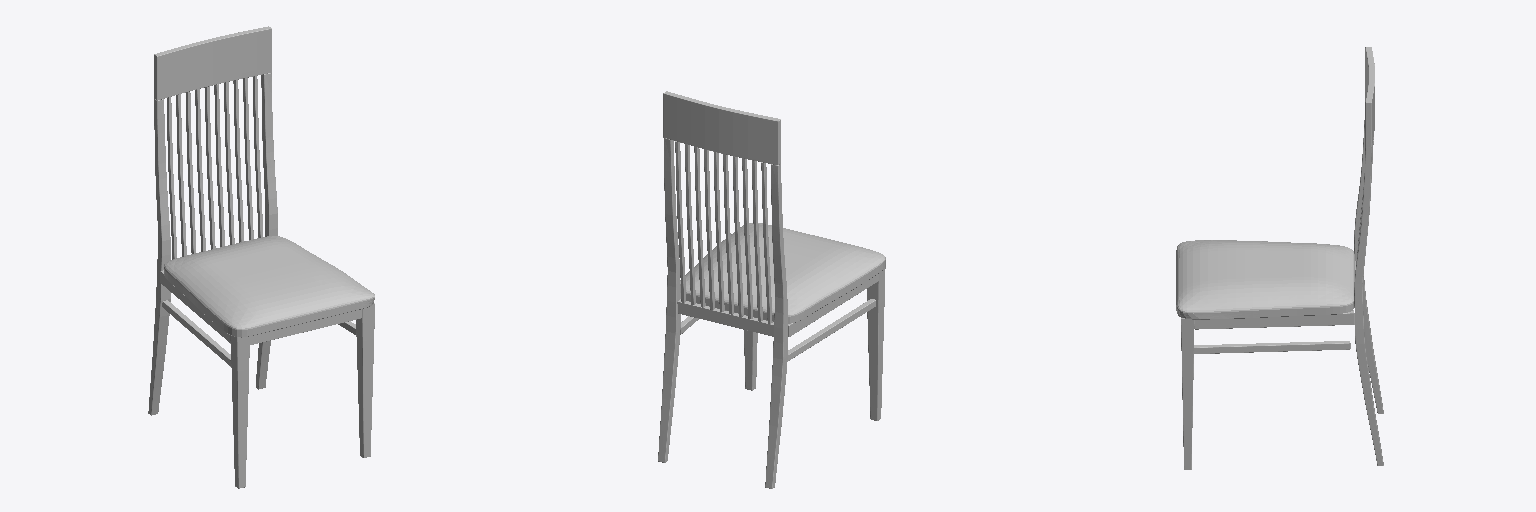
Rendered from diningChair.obj.
3 renders of one model, left to right at view 1: azimuth 30°, elevation 25°; view 2: azimuth 150°, elevation 25°; view 3: azimuth 270°, elevation 25°, orthographic.
Visible parts, largest first — view 1: x07; view 2: x07; view 3: x07.
Part boxes in pixels (x1,y1,x2,y2): x07: (148, 26, 374, 488); x07: (658, 91, 885, 488); x07: (1176, 47, 1383, 469).
Size of the model in its own units: 435 by 1052 by 543.